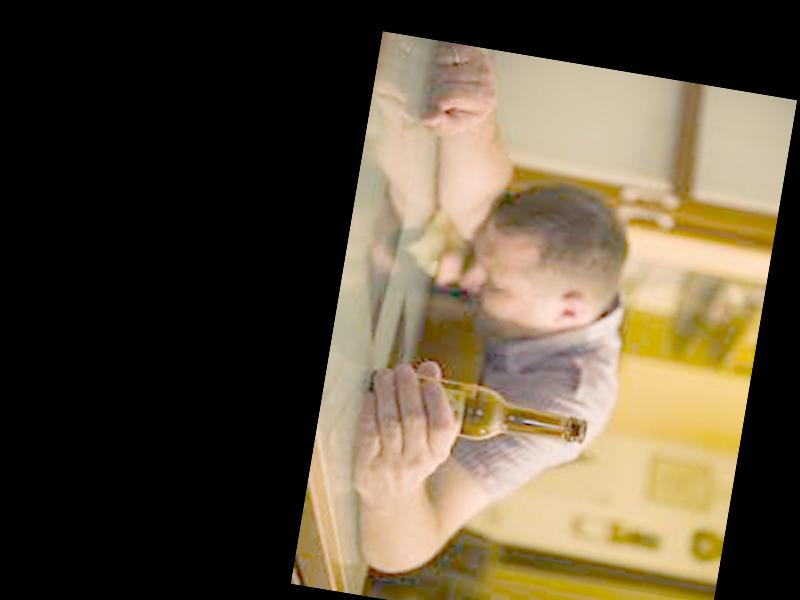Beer: (362, 369, 592, 454)
